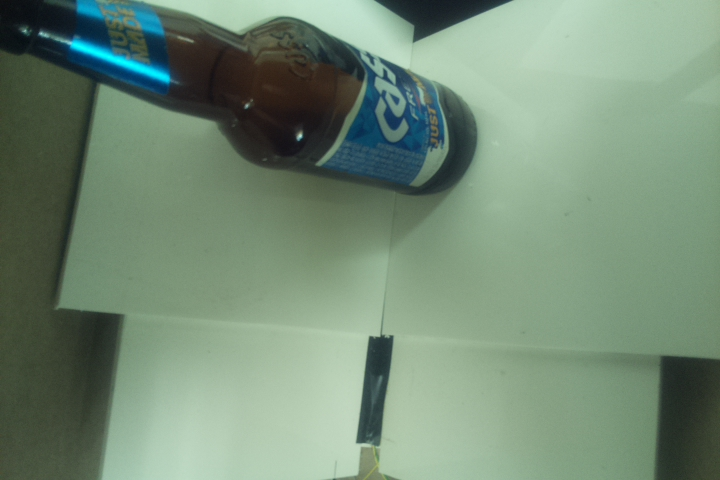makju: (1, 1, 480, 199)
